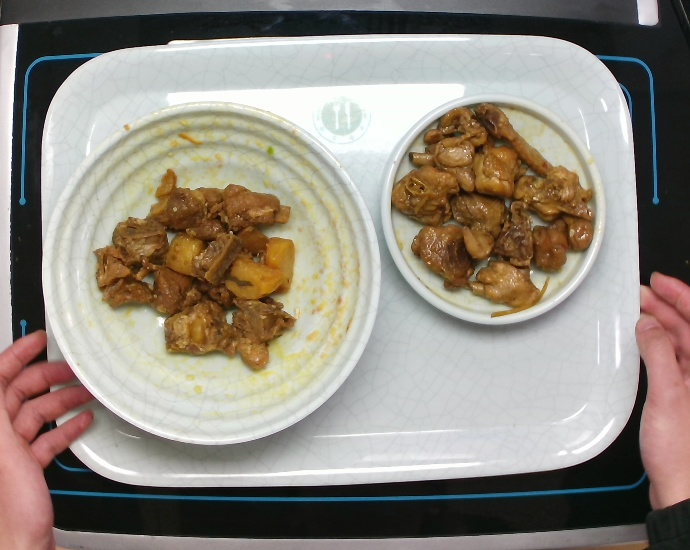JYsf-Da_Tang_Wan: (42, 101, 388, 446)
JYsf-Xiao_Yuan_Pan: (377, 91, 606, 327)
